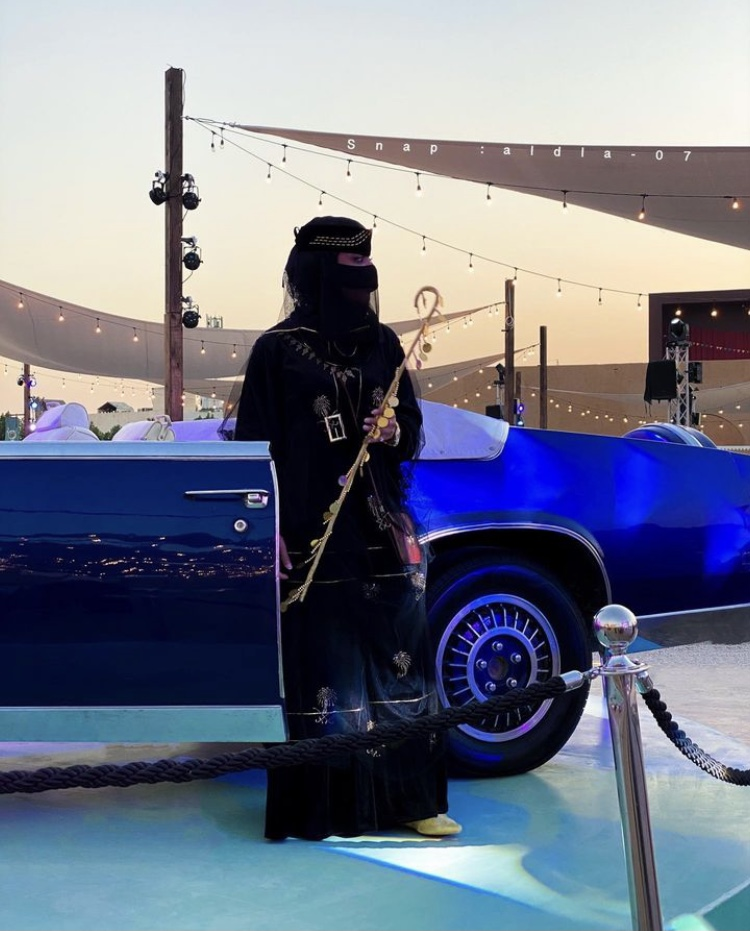Saudi_Founding_Day: (219, 216, 463, 847)
